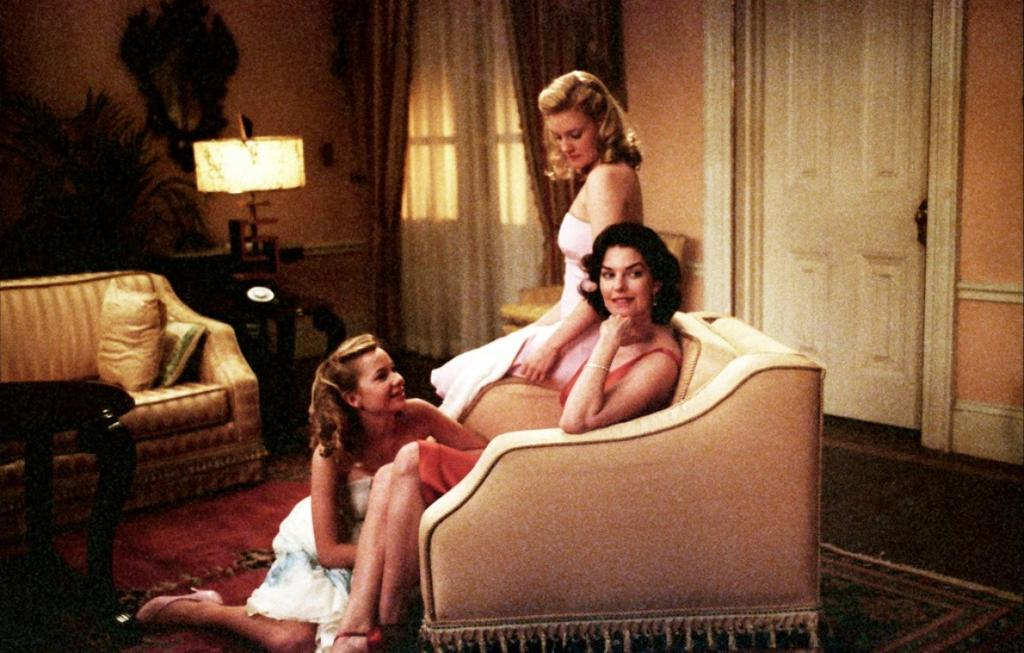face: (599, 246, 651, 319), (361, 349, 407, 412), (547, 111, 596, 168)
